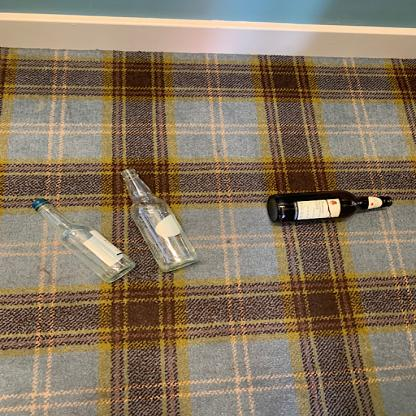trash: (28, 196, 137, 286), (119, 170, 202, 276), (263, 190, 398, 224)
